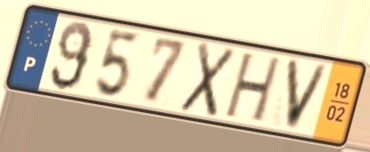5: (92, 26, 144, 100)
7: (144, 35, 188, 107)
9: (48, 19, 95, 94)
H: (221, 51, 285, 126)
V: (283, 56, 332, 134)
X: (177, 39, 239, 121)
